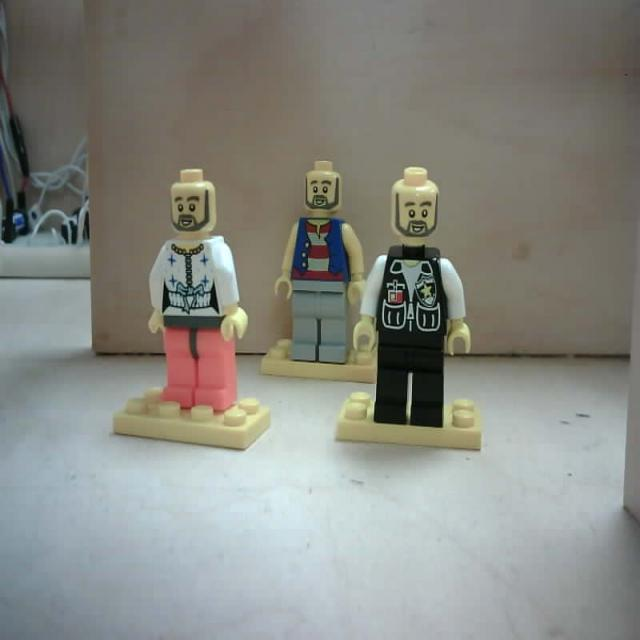Lego-People: (332, 166, 483, 460), (116, 169, 271, 451), (262, 159, 380, 383)
